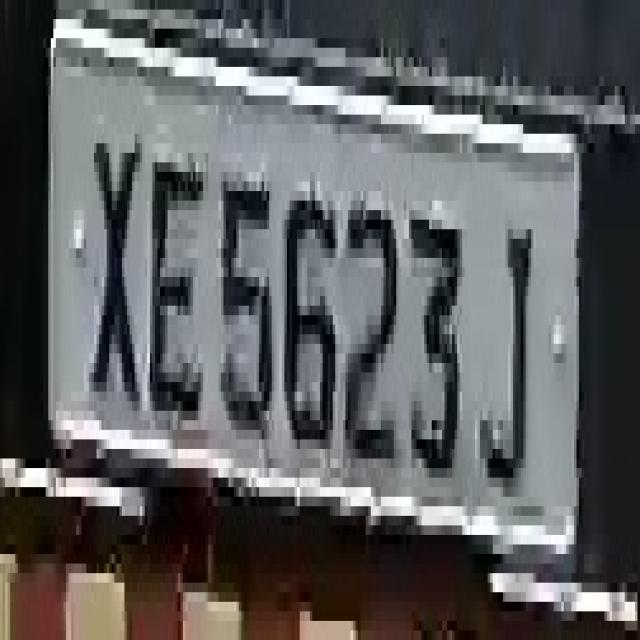2: (343, 182, 404, 506)
3: (404, 172, 462, 506)
5: (216, 124, 272, 468)
6: (282, 162, 335, 458)
E: (147, 105, 201, 459)
J: (475, 191, 538, 506)
X: (86, 76, 145, 468)
